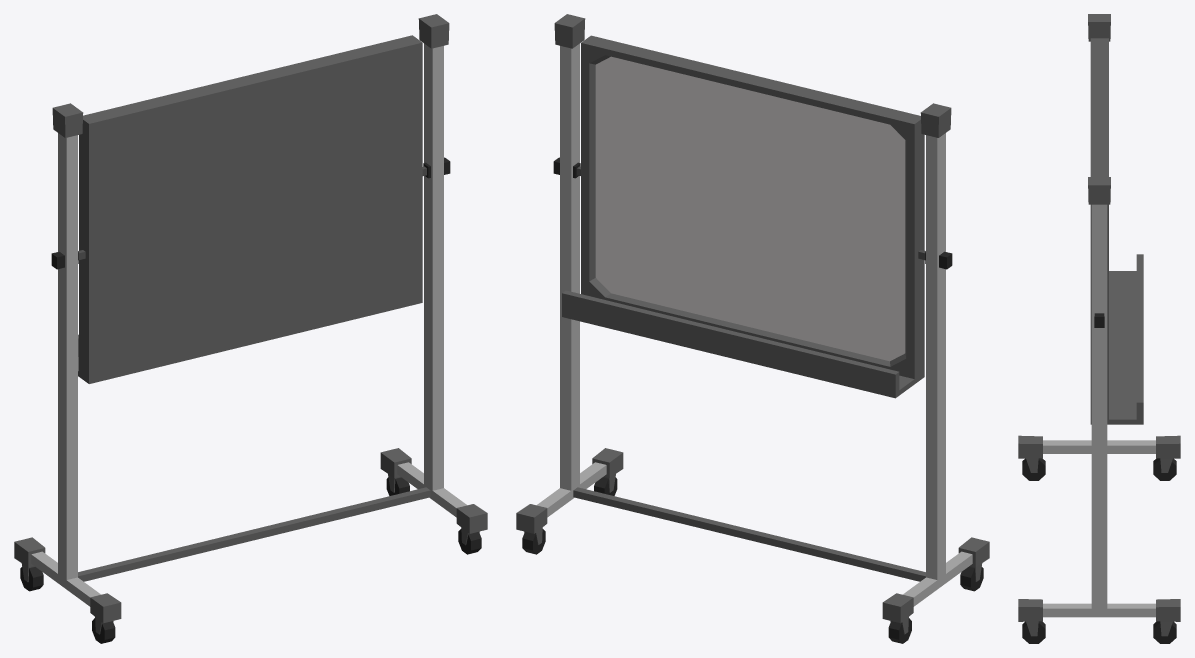
Rendered from whiteBoard.glb.
The picture shows the model from 3 angles, left to right: view 1: azimuth 30°, elevation 25°; view 2: azimuth 150°, elevation 25°; view 3: azimuth 270°, elevation 25°; orthographic projection. The views are drawn at different scales.
Parts seen in each view (by area): view 1: pCube96, pCube101, pCube98; view 2: pCube96, pCube101, pCube98; view 3: pCube101, pCube96.
Part boxes in pixels (bbox=[...]): pCube96: bbox=[78, 35, 422, 383]; pCube101: bbox=[14, 14, 487, 643]; pCube98: bbox=[78, 487, 430, 581]; pCube96: bbox=[562, 35, 924, 398]; pCube101: bbox=[516, 14, 989, 643]; pCube98: bbox=[573, 487, 925, 581]; pCube101: bbox=[1018, 14, 1180, 643]; pCube96: bbox=[1090, 38, 1143, 424].
Bounding box in the file's own units: 1.92 × 2.35 × 0.7513.
Materials: 1 (1 with a texture image).
